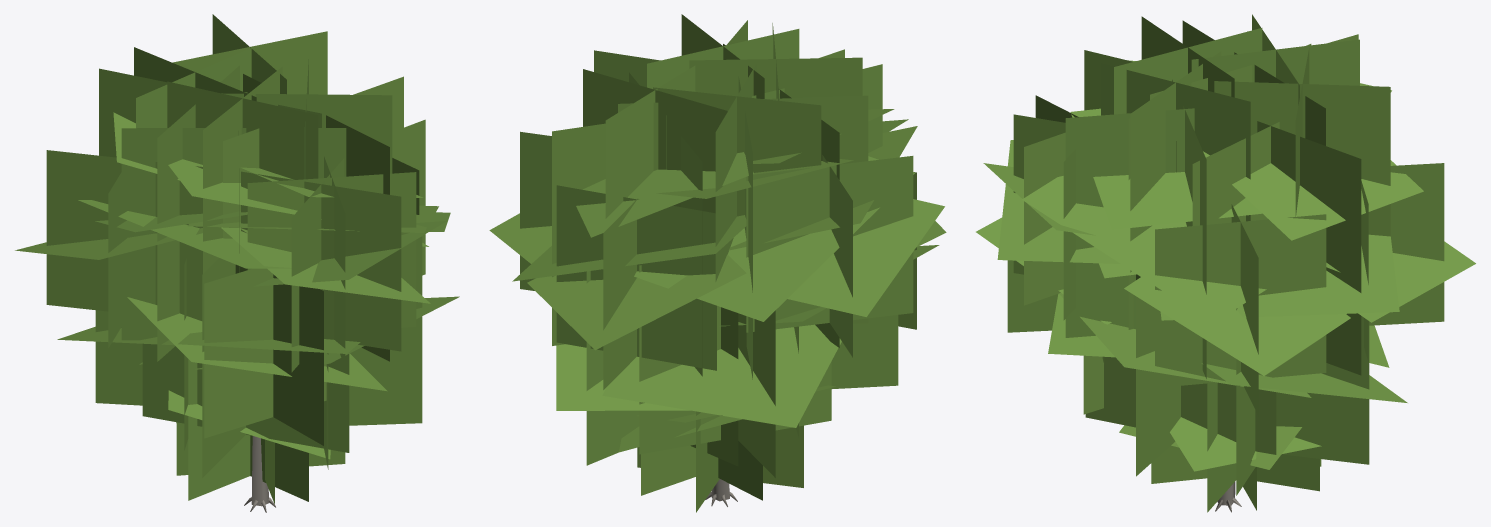
The model's file is tilleul_1_f3_loin.glb.
The picture shows the model from 3 angles, left to right: view 1: azimuth 30°, elevation 25°; view 2: azimuth 150°, elevation 25°; view 3: azimuth 270°, elevation 25°; orthographic projection. The views are drawn at different scales.
Parts seen in each view (by area): view 1: Tilleul_T1_f3_Leger_Loin; view 2: Tilleul_T1_f3_Leger_Loin; view 3: Tilleul_T1_f3_Leger_Loin.
Boxes of the visible parts, box(x1,y1,x2,y2) form: Tilleul_T1_f3_Leger_Loin: box(15, 14, 459, 512); Tilleul_T1_f3_Leger_Loin: box(489, 14, 946, 512); Tilleul_T1_f3_Leger_Loin: box(976, 14, 1475, 512).
Bounding box in the file's own units: 7.13 × 7.26 × 7.48.
